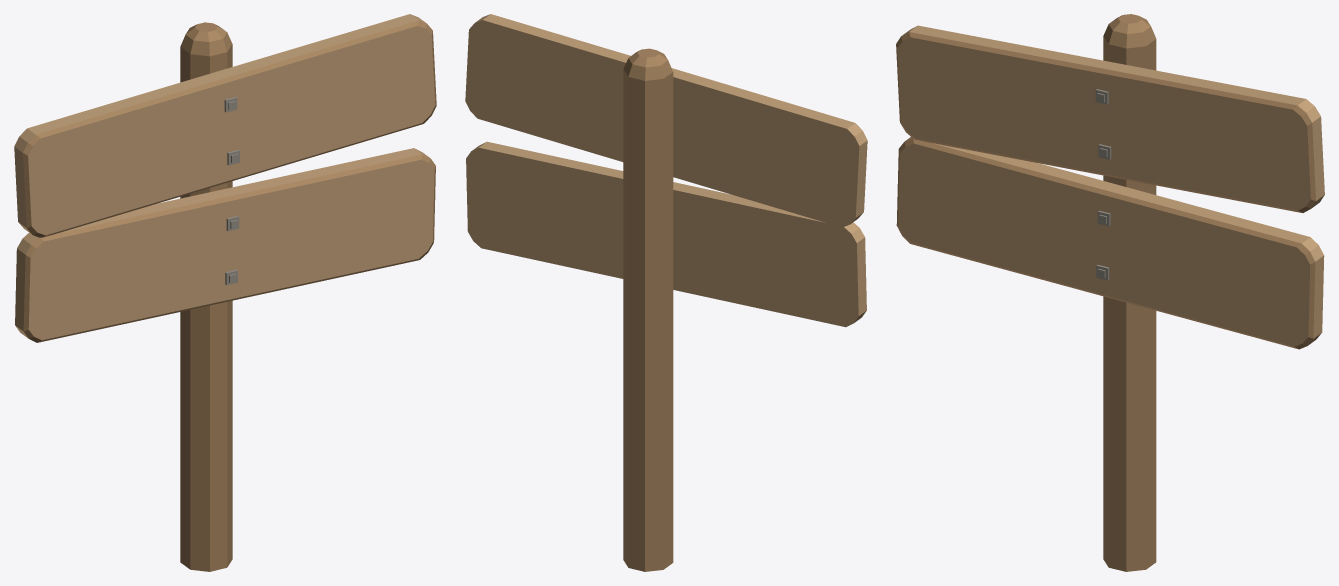
The model's file is letrero.fbx.
3 renders of one model, left to right at view 1: azimuth 30°, elevation 25°; view 2: azimuth 150°, elevation 25°; view 3: azimuth 330°, elevation 25°, orthographic. The views are drawn at different scales.
Visible parts, largest first — view 1: letrero; view 2: letrero; view 3: letrero.
Part boxes in pixels (<box>): letrero: <box>14,14,436,571</box>; letrero: <box>465,14,867,571</box>; letrero: <box>896,14,1324,571</box>.
Bounding box in the file's own units: 90.71 × 112 × 15.07.
